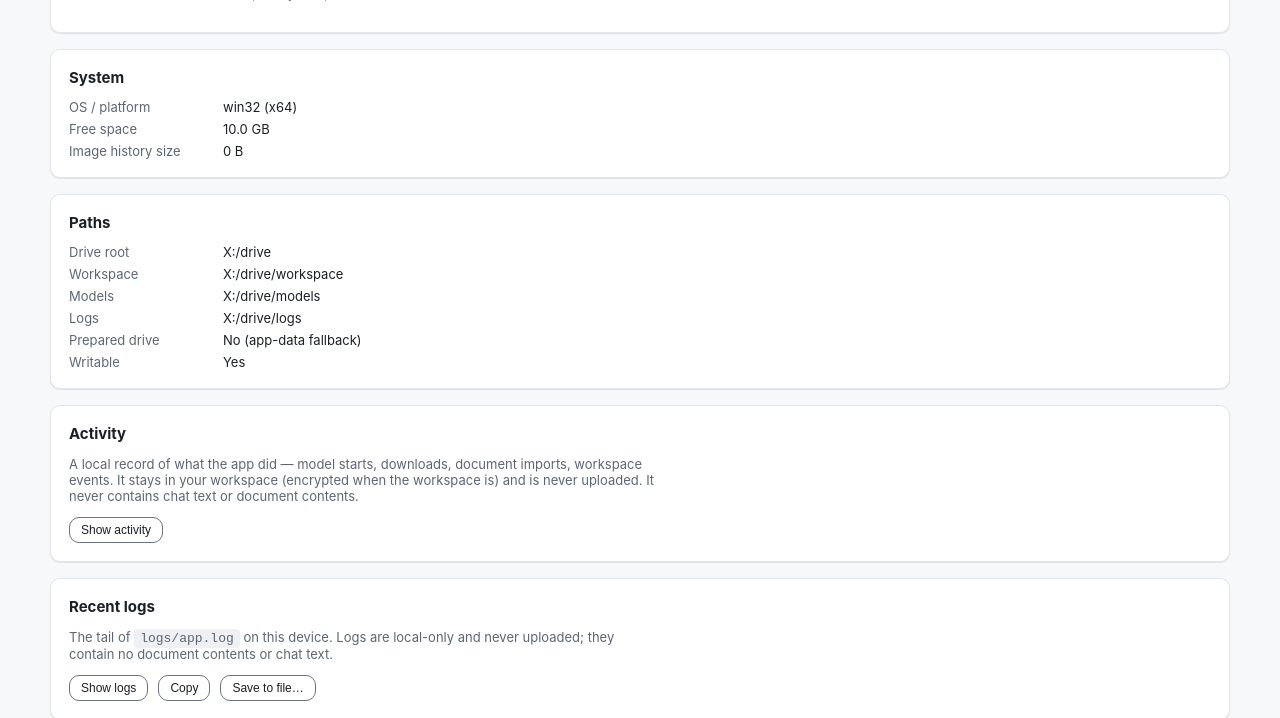
Test case: Settings → Diagnostics (advanced) — Activity panel (Phase 19) › shows a friendly empty state when nothing is recorded yet
This screenshot has width=1280, height=718.
(page scrolled)
Click the button "Show activity".
click(116, 530)  # box x1=69 y1=517 x2=163 y2=543
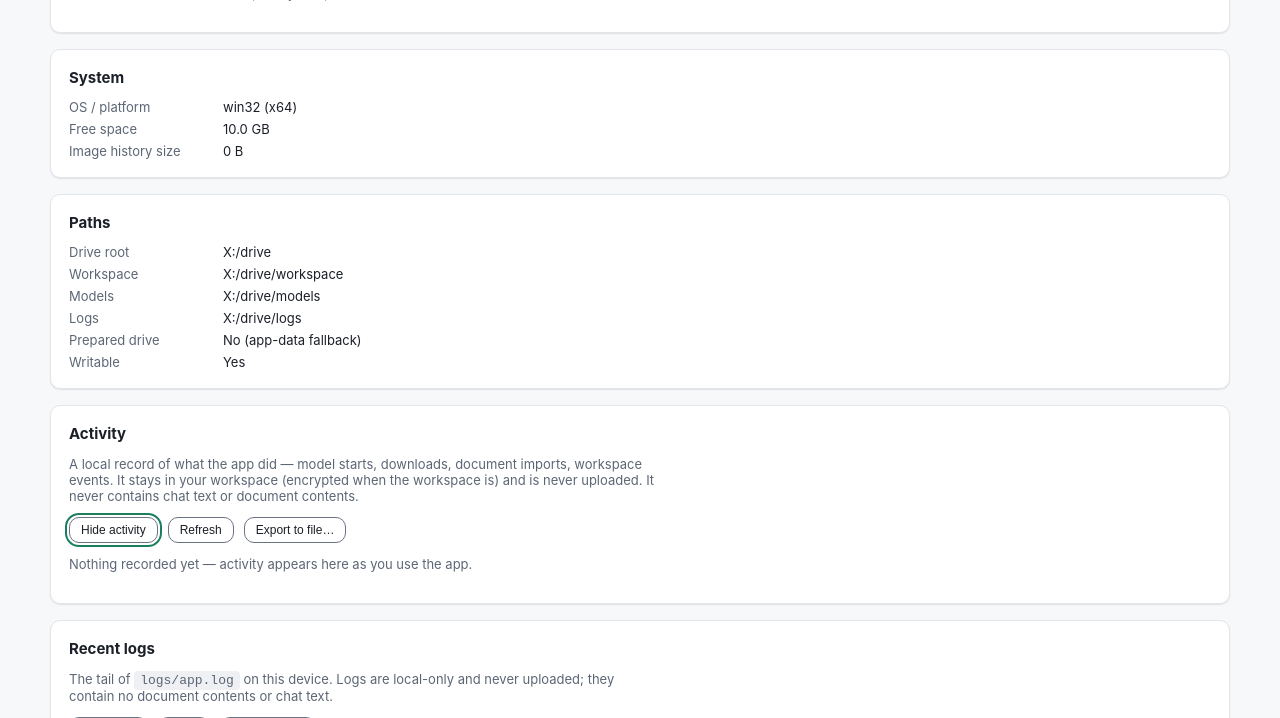
Expected: the text "Nothing recorded yet" is shown, x1=69 y1=556 x2=472 y2=572
